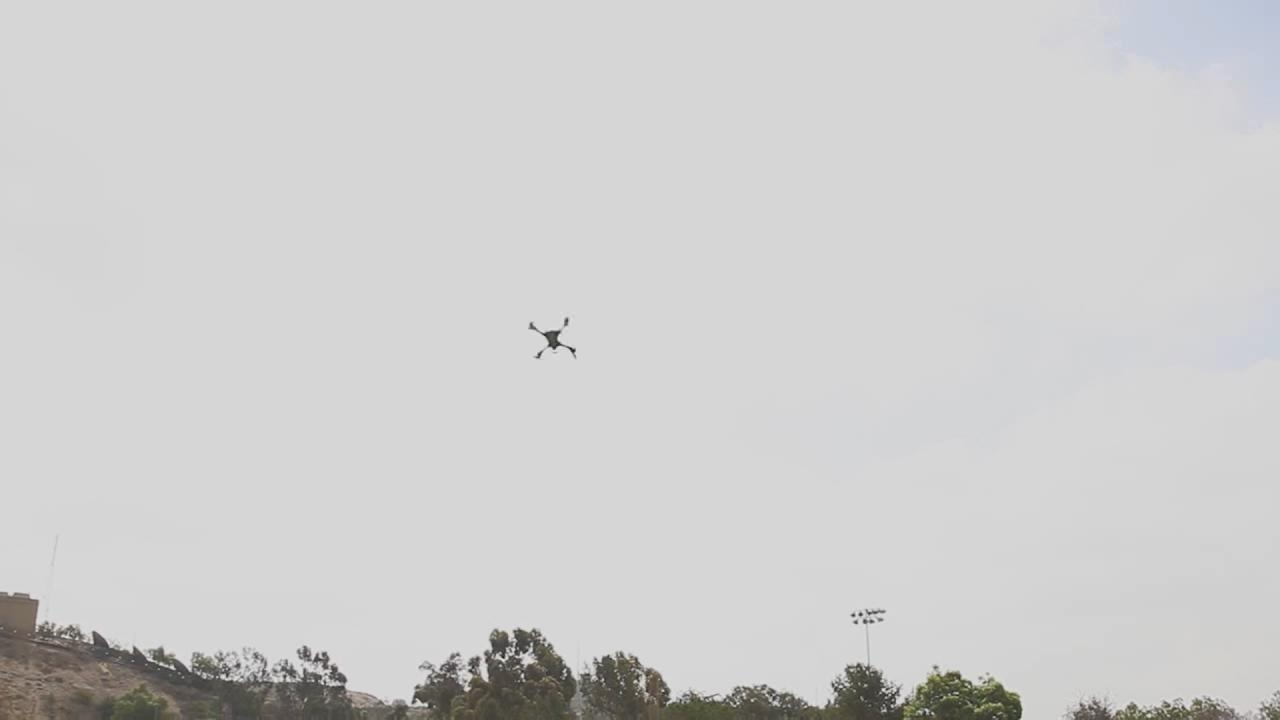Drone: (519, 308, 588, 368)
